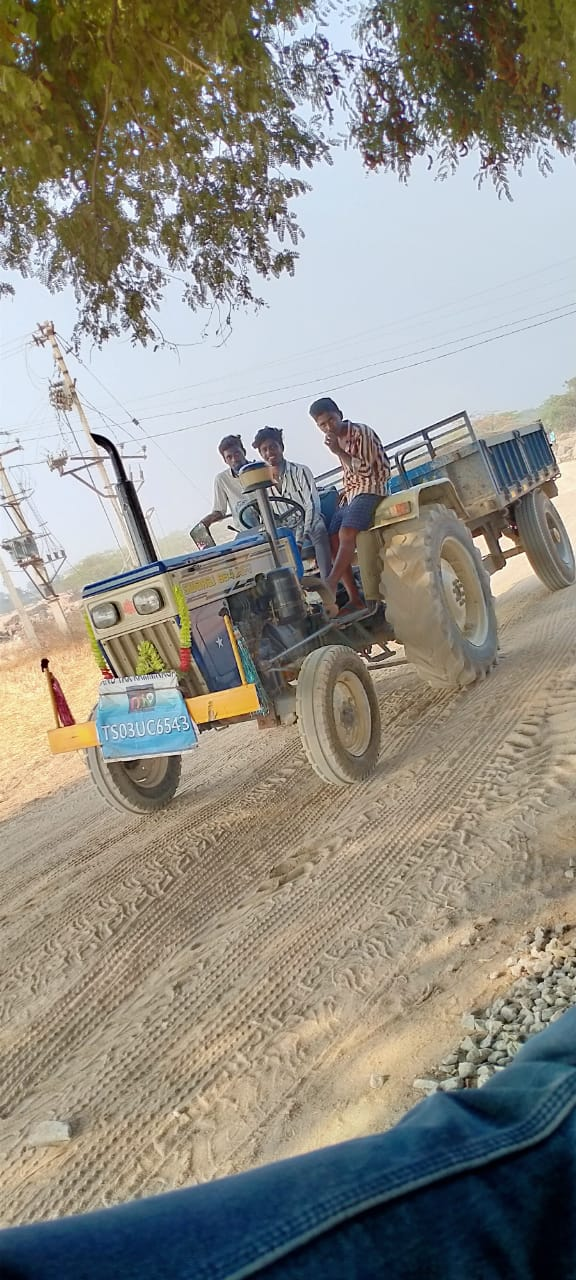license_plate: (94, 715, 196, 747)
